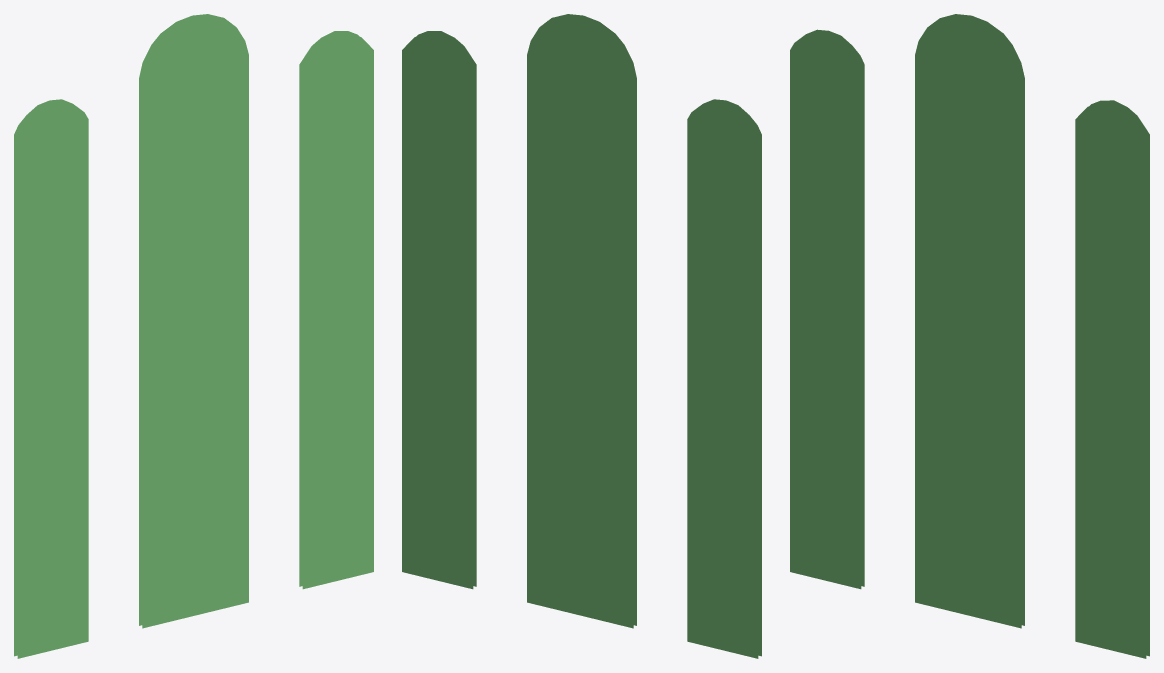
The model's file is Bld3_Wall_Mid_F_Wind.fbx.
3 views of the same model, side by side, from view 1: azimuth 30°, elevation 25°; view 2: azimuth 150°, elevation 25°; view 3: azimuth 330°, elevation 25° (orthographic).
Visible parts, largest first — view 1: Bld3_Wall_Mid_F_Wind; view 2: Bld3_Wall_Mid_F_Wind; view 3: Bld3_Wall_Mid_F_Wind.
Part boxes in pixels (box(x1,y1,x2,y2)): Bld3_Wall_Mid_F_Wind: box(14, 14, 373, 658); Bld3_Wall_Mid_F_Wind: box(402, 14, 761, 658); Bld3_Wall_Mid_F_Wind: box(790, 14, 1149, 658).
Size of the model in its own units: 450 by 721 by 7.5.
